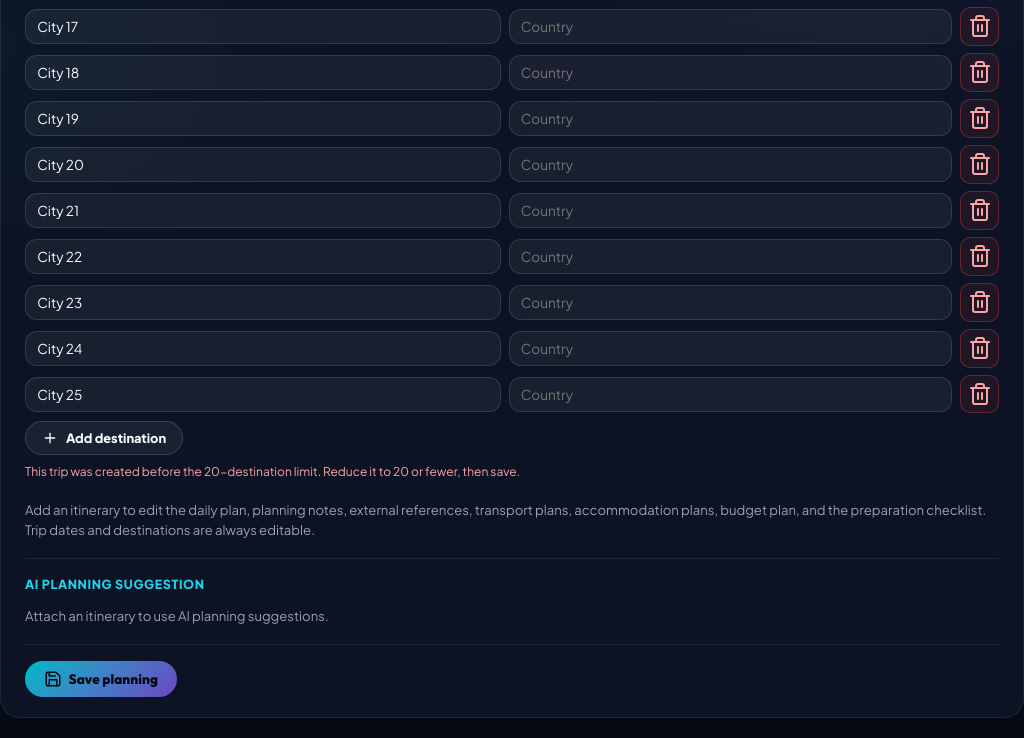
PlanningEditor › caps destinations at 20, disabling Add and guiding a legacy over-limit trip back under the cap
(page scrolled)
Expected: the button "Add destination" is disabled, [25,422,183,456]
Expected: the text "created before the 20-destination limit" is shown, [25,464,520,480]
Click the button named "Remove destination d25".
click(980, 394)  # box [960,375,999,414]
(page scrolled)
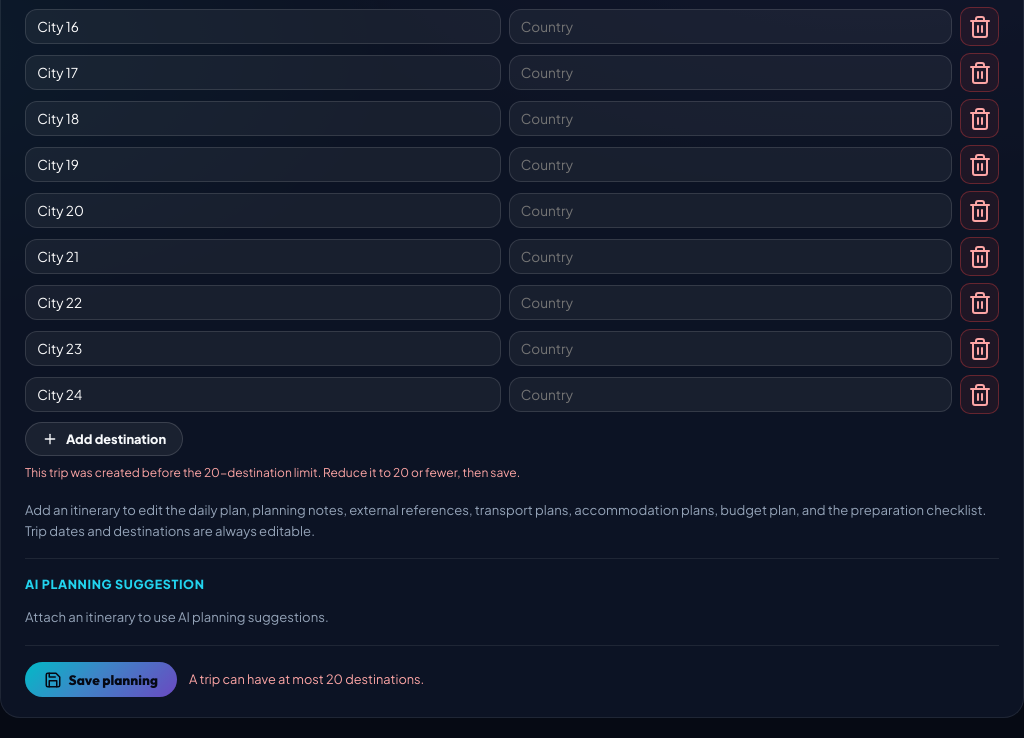
Expected: the button "Save planning" is disabled, [25,662,177,697]
Expected: the message shows "at most 20", [189,671,424,687]
Click the button named "Remove destination d24".
click(980, 395)  # box [960,375,999,414]
(page scrolled)
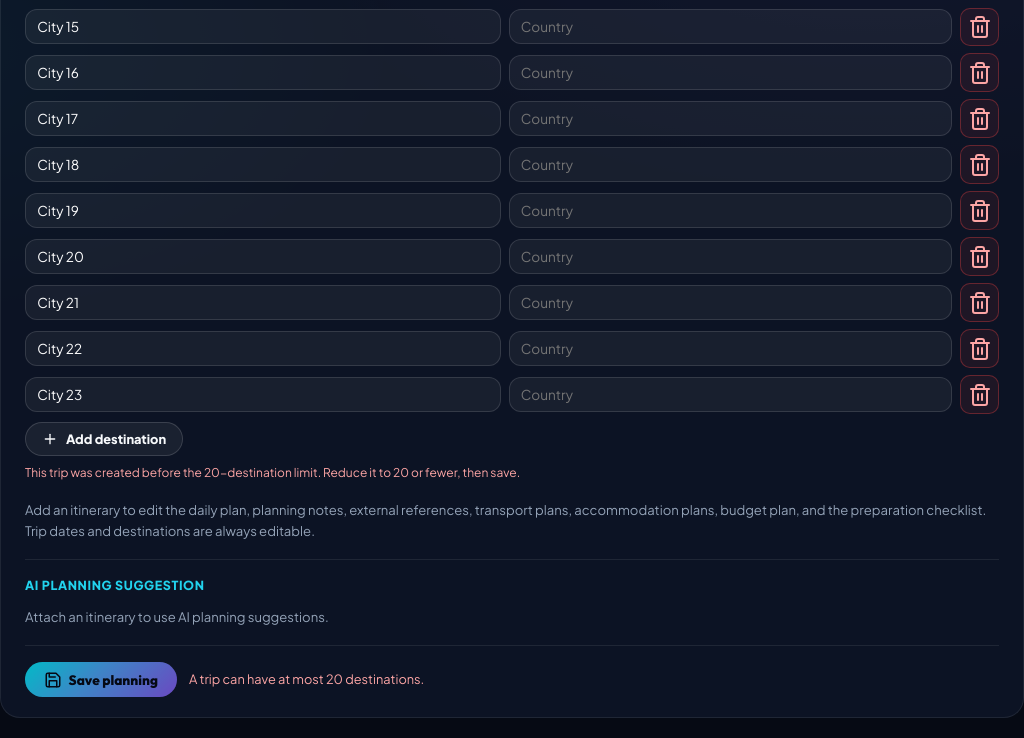
Click the button named "Remove destination d23".
click(980, 395)  # box [960,375,999,414]
(page scrolled)
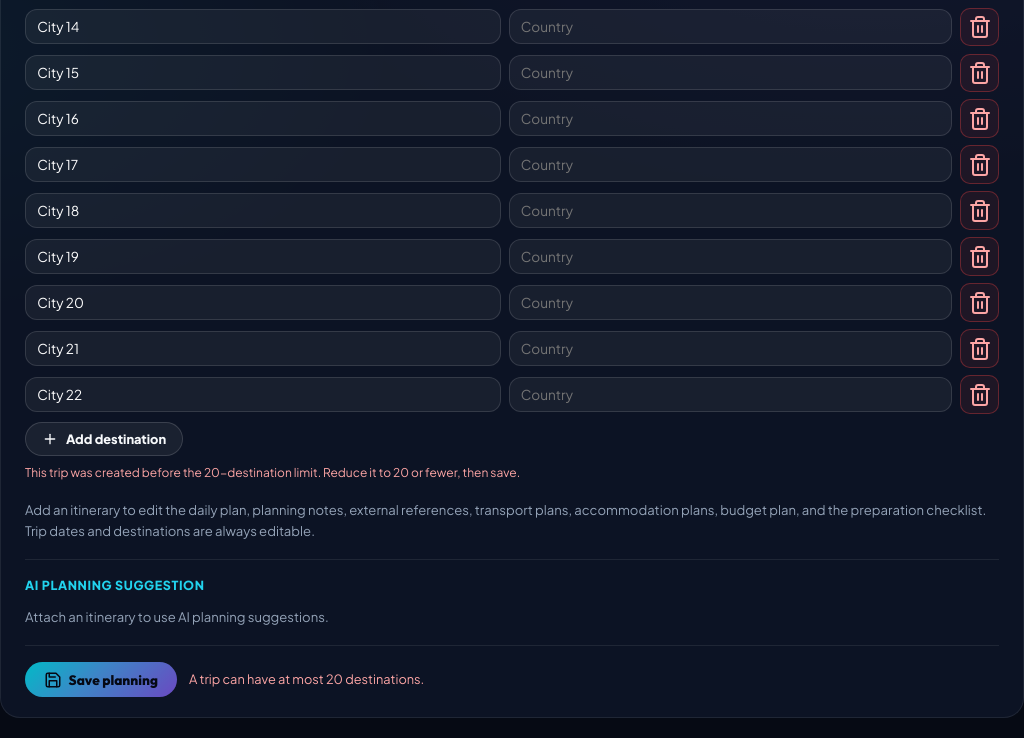
Click the button named "Remove destination d22".
click(980, 395)  # box [960,375,999,414]
(page scrolled)
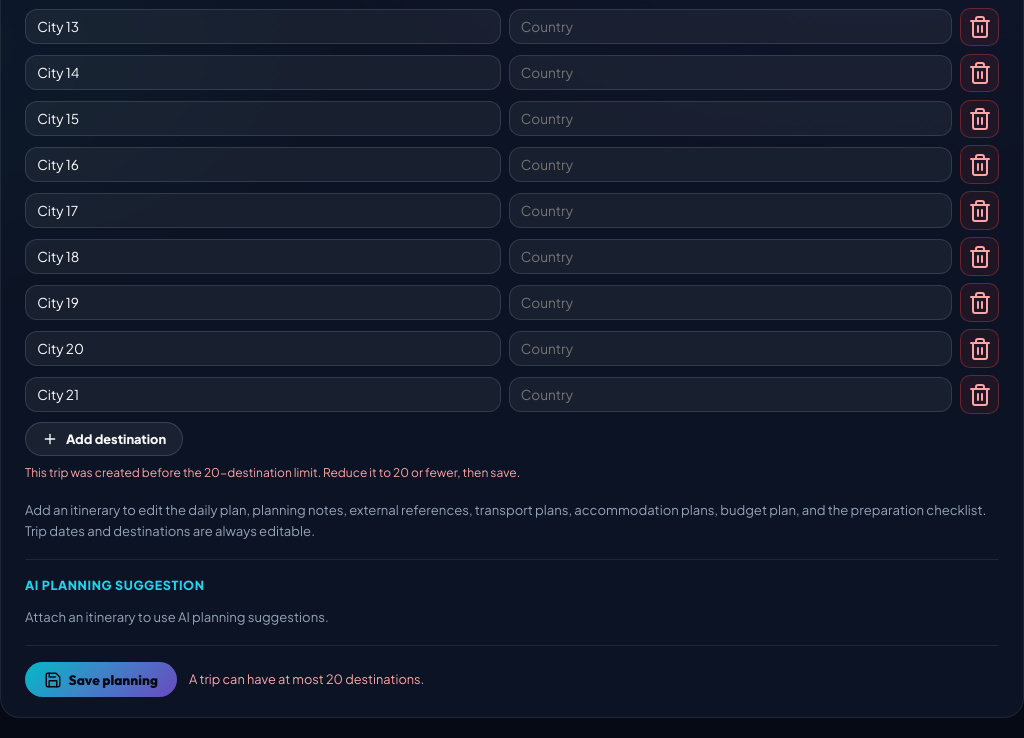
Click the button named "Remove destination d21".
click(980, 395)  # box [960,375,999,414]
(page scrolled)
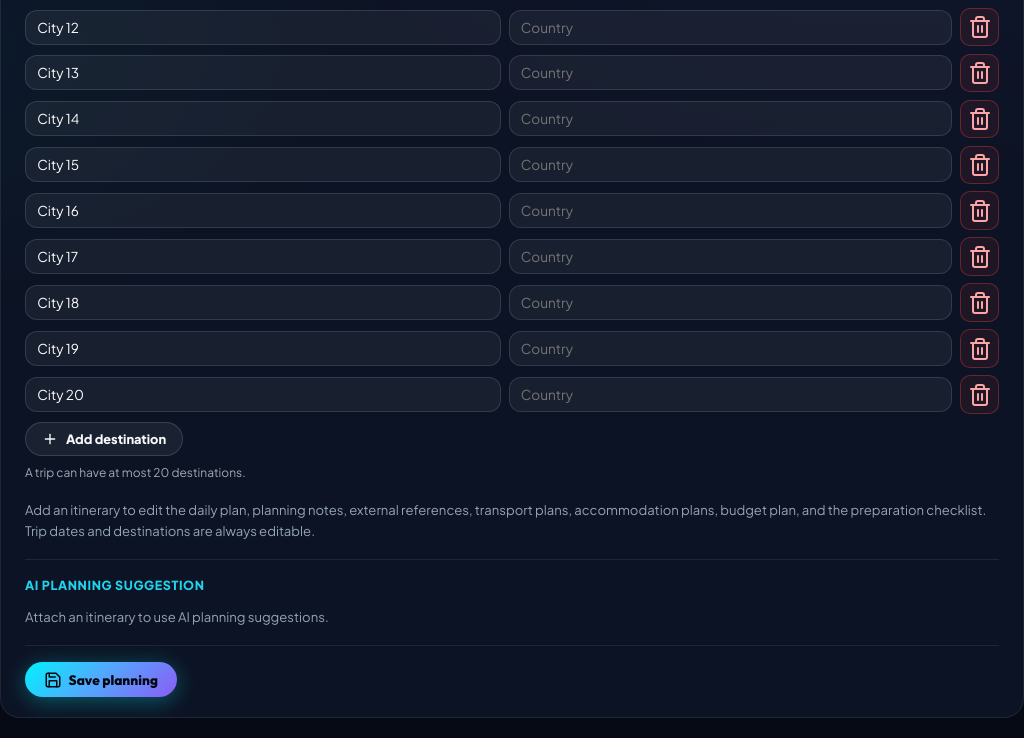
Expected: the button "Save planning" is enabled, [25,662,177,698]
Expected: the text "A trip can have at most 20 destinations." is shown, [25,465,246,480]
